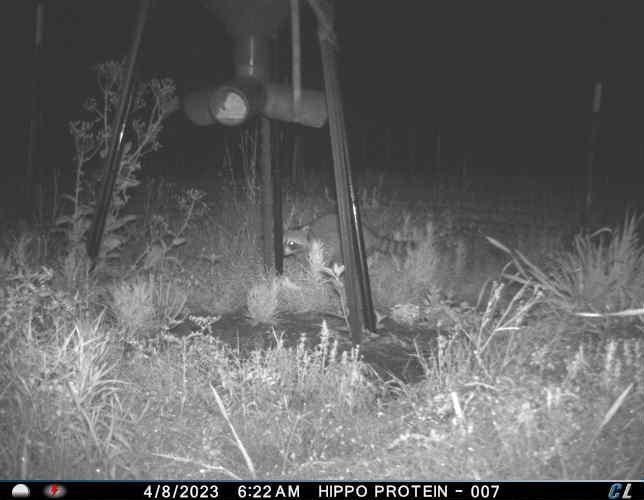Raccoon: (281, 209, 419, 282)
